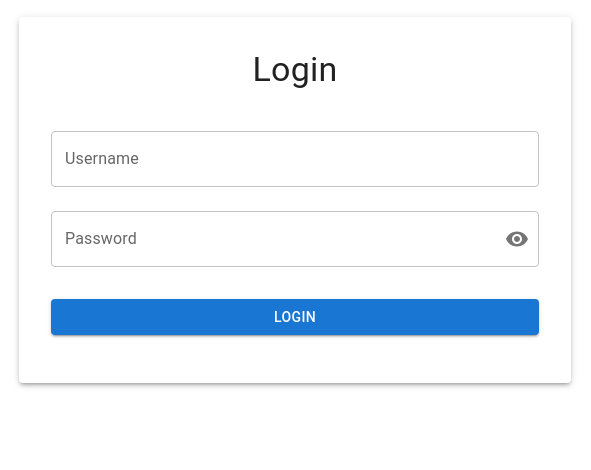
Login › displays error message on login failure
Type "testuser" into the field labelled "Username" at (295, 159), box x1=51 y1=131 x2=539 y2=187
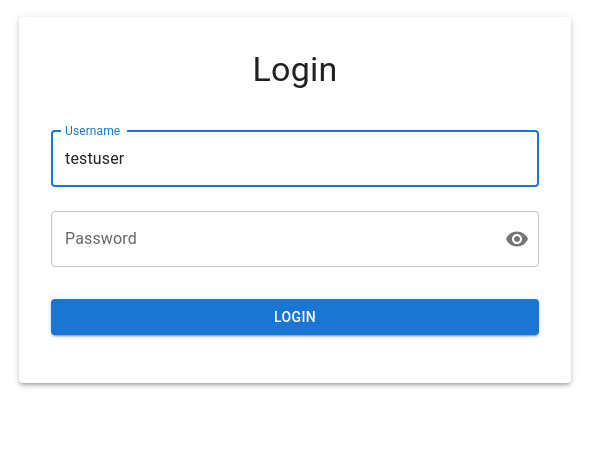
Type "wrongpassword" into the password field labelled "Password" at (270, 239), box x1=51 y1=211 x2=489 y2=267
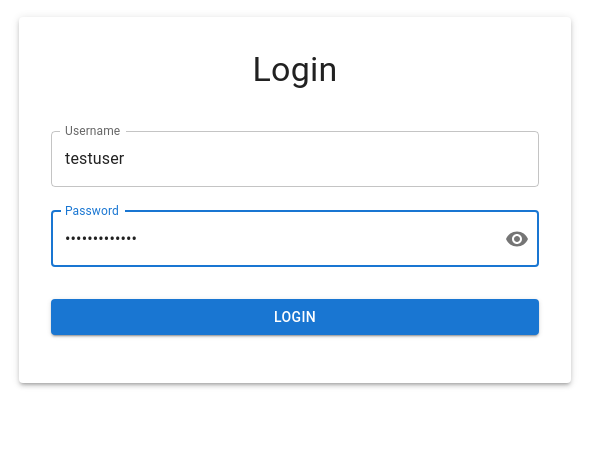
Click the button "Login" at (295, 317), box x1=51 y1=299 x2=539 y2=336
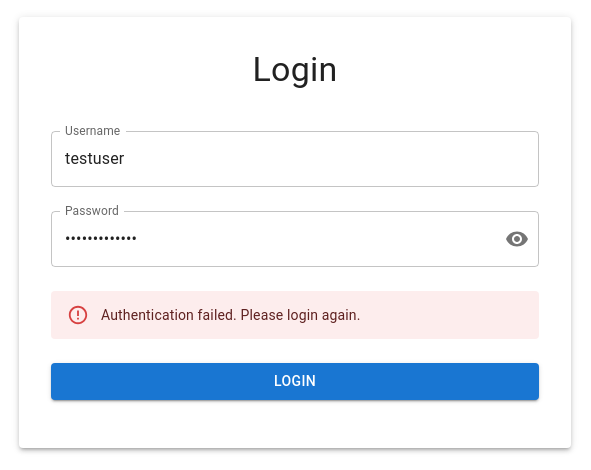
Now the text "Authentication failed. Please login again." is shown, box x1=101 y1=307 x2=361 y2=323
